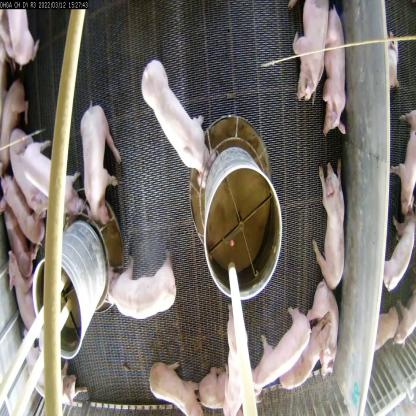Pig: (136, 57, 212, 187), (249, 302, 314, 395), (20, 336, 95, 415), (78, 95, 120, 232), (104, 259, 183, 327), (316, 157, 349, 292), (290, 0, 329, 110), (284, 311, 335, 395), (304, 282, 344, 384), (323, 9, 351, 145), (0, 64, 34, 175), (23, 147, 80, 212), (14, 127, 54, 217), (0, 175, 45, 250), (223, 304, 253, 416), (0, 199, 38, 287), (150, 360, 207, 416), (197, 360, 252, 415), (8, 254, 40, 335)
